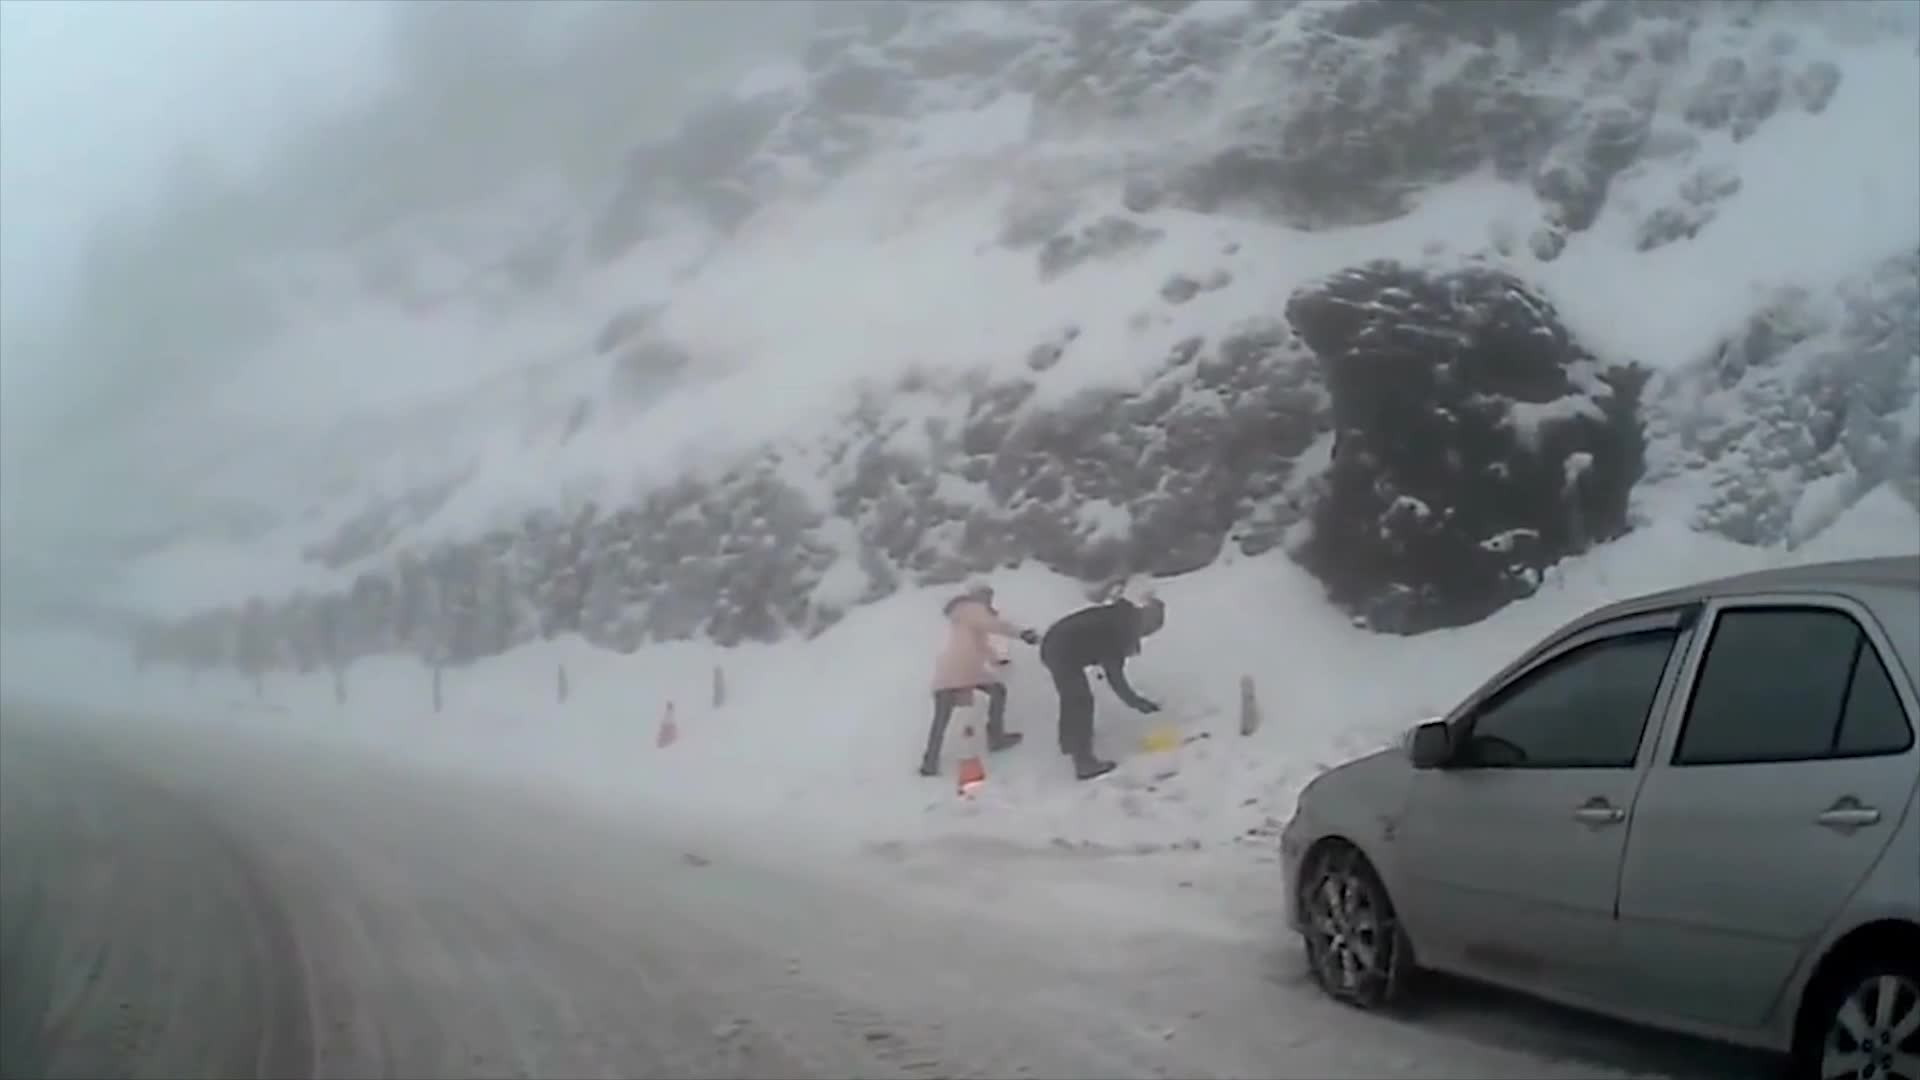pedestrian: (915, 578, 1041, 778), (1037, 598, 1164, 783)
vehicle: (1281, 554, 1920, 1080)
